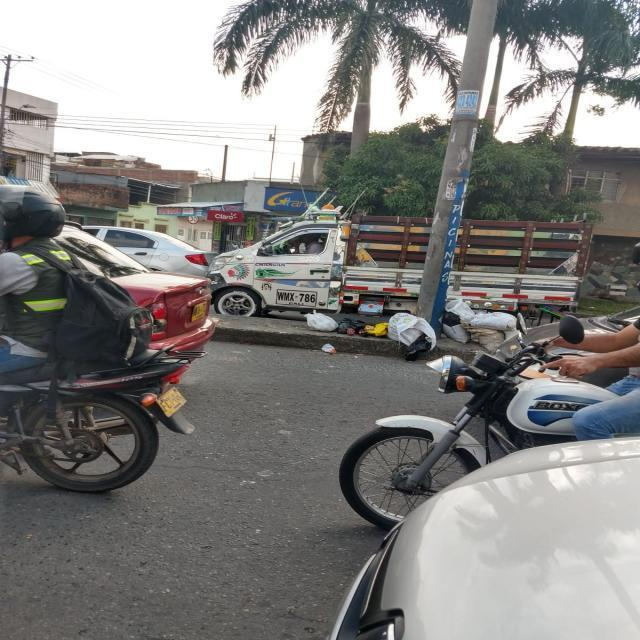Garbage_Bag: (387, 311, 439, 354), (468, 325, 506, 352), (441, 316, 473, 344), (472, 310, 515, 330), (302, 310, 340, 332), (447, 300, 476, 318), (338, 318, 368, 334), (364, 322, 389, 336)
